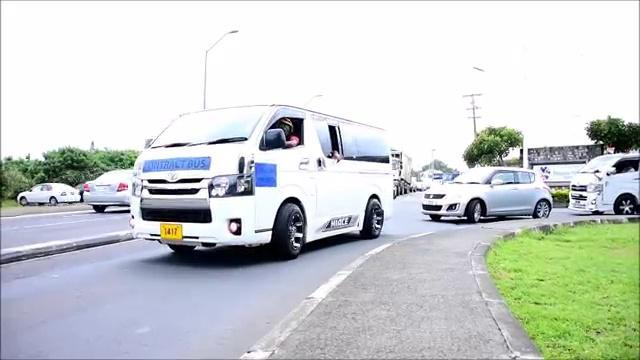van: (129, 111, 403, 263)
